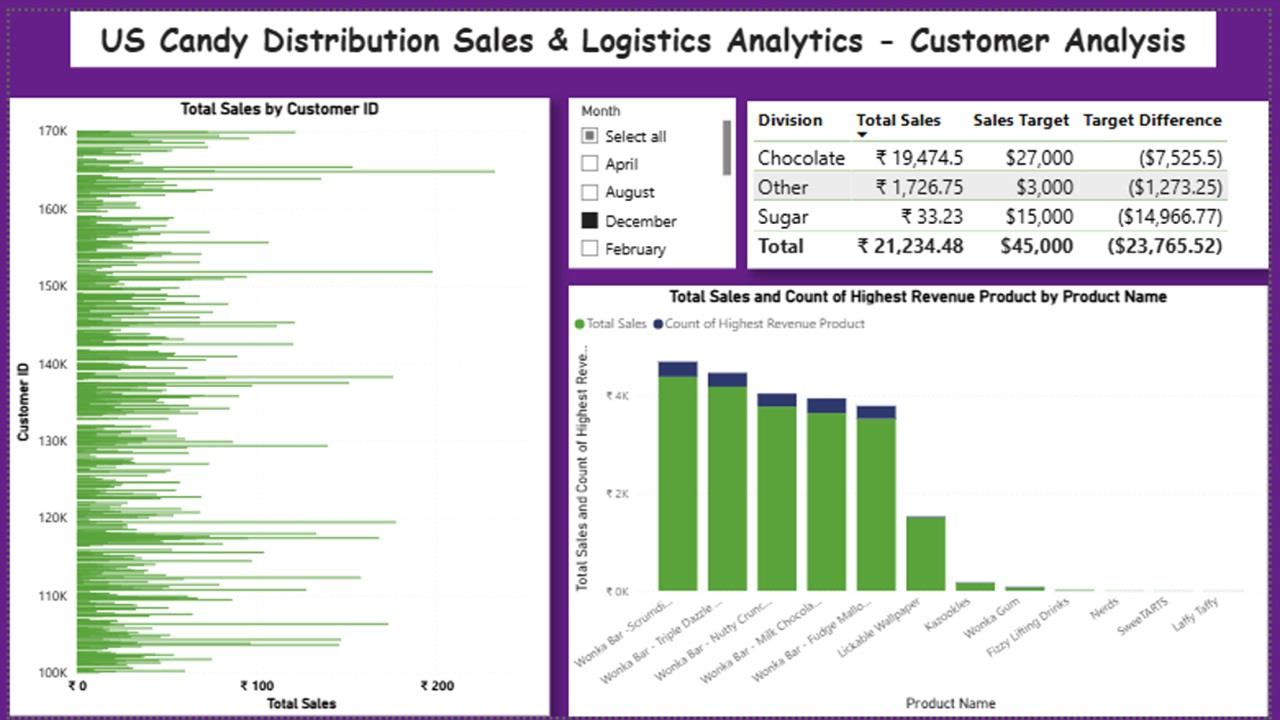

The dashboard page shown, as its layout file describes it:
{"tool":"powerbi","page":{"name":"Customer Analysis","canvas":[1280,720],"ordinal":1},"visuals":[{"type":"columnChart","fields":{"Category":["Candy Sales.Product Name"],"Y":["Candy Sales.Total Sales","CountNonNull(Candy Sales.Highest Revenue Product)"]},"box":[568.6,280,711.4,440],"z":0},{"type":"tableEx","fields":{"Values":["Candy Sales.Division","Candy Sales.Total Sales","Candy Sales.Sales Target","Candy Sales.Target Difference"]},"box":[750,91.4,530,171.4],"z":1000},{"type":"clusteredBarChart","fields":{"Category":["Candy Sales.Customer ID"],"Y":["Candy Sales.Total Sales"]},"box":[0,88.6,548.6,631.4],"z":2000},{"type":"slicer","fields":{"Values":["Date Table.Month"]},"box":[568.6,88.6,170,174.3],"z":3000},{"type":"textbox","box":[61.7,0,1165,56.7],"z":4000}]}

Visuals, with their boxes in screenshot pixels (x1, y1, x2, y2), scaled from the page's 1280x720 canvas onto the 1280x720 screenshot:
columnChart - Candy Sales.Product Name x Candy Sales.Total Sales: [569, 280, 1279, 719]
tableEx - Candy Sales.Division x Candy Sales.Total Sales: [750, 91, 1279, 263]
clusteredBarChart - Candy Sales.Customer ID x Candy Sales.Total Sales: [0, 89, 549, 719]
slicer - Date Table.Month: [569, 89, 739, 263]
textbox: [62, 0, 1227, 57]
